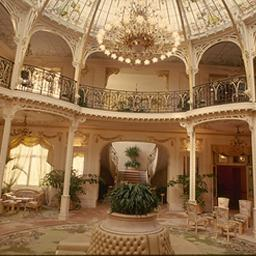Matera: (42, 170, 99, 209), (106, 186, 154, 231), (172, 174, 205, 212)
